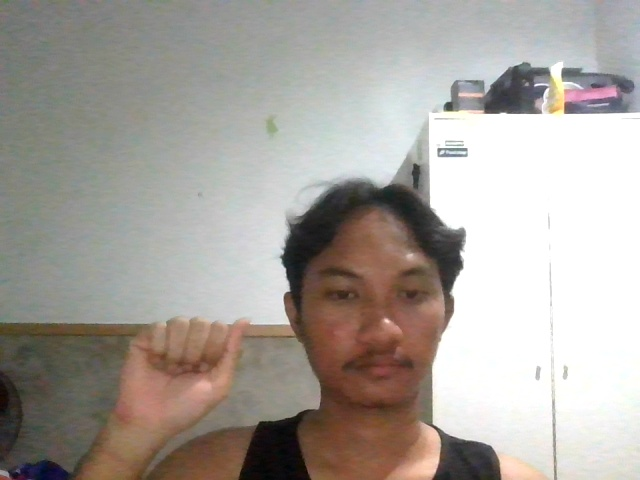a: (110, 302, 254, 448)
